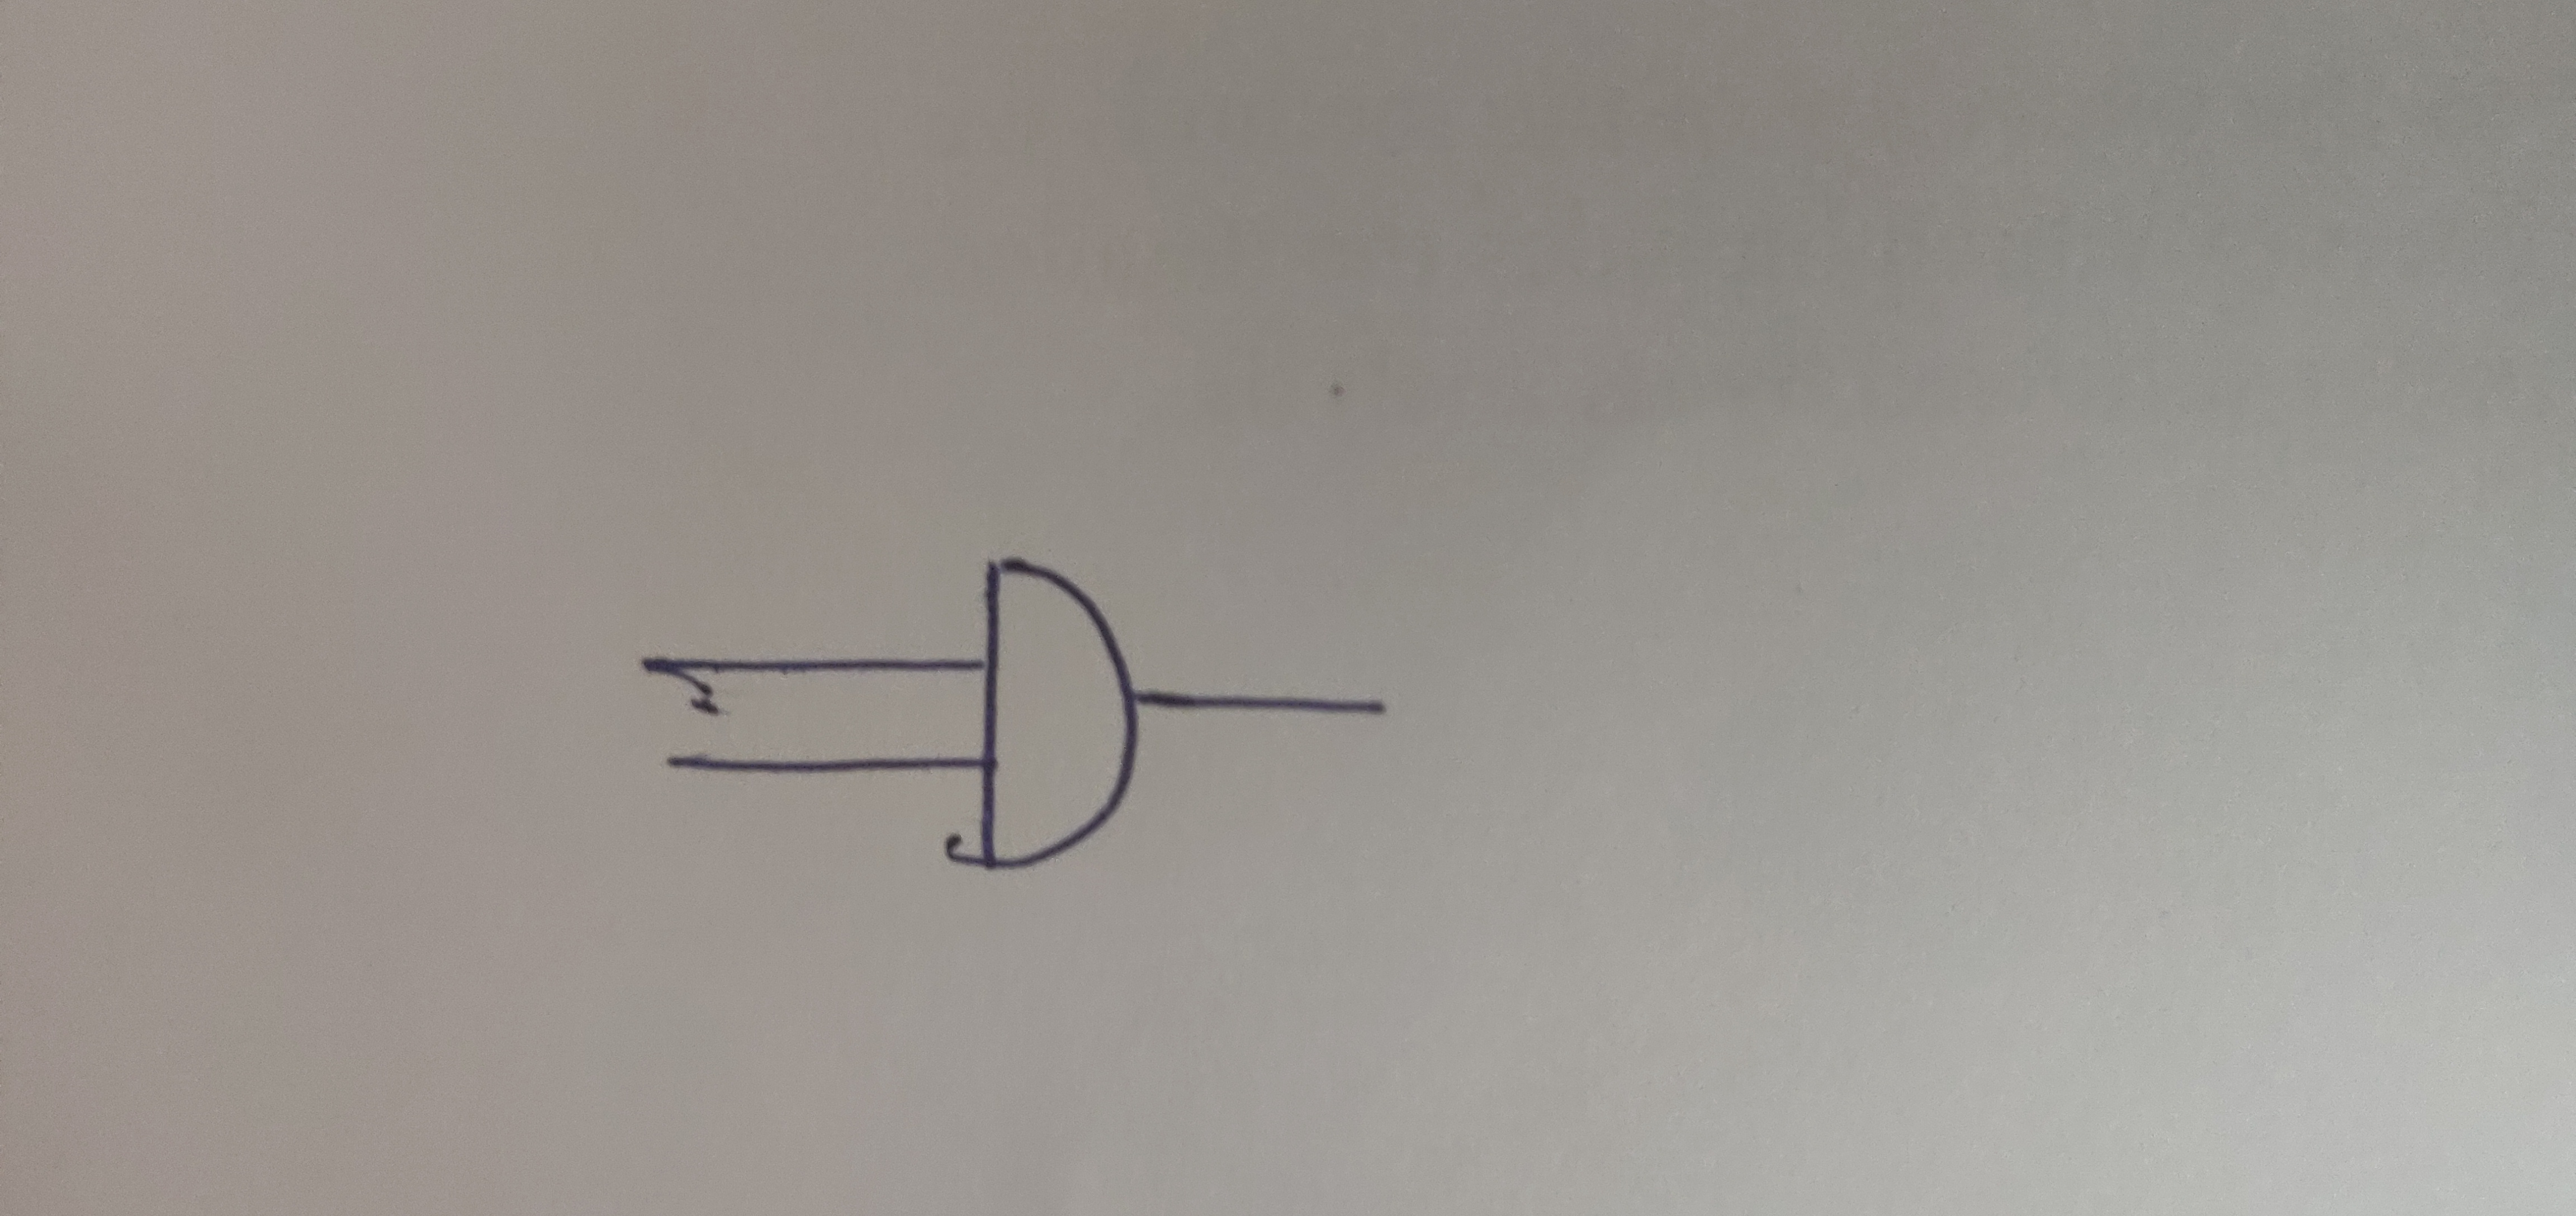and: (900, 509, 1232, 943)
